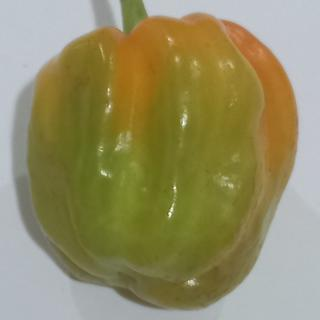Grade-A: (20, 7, 304, 312)
